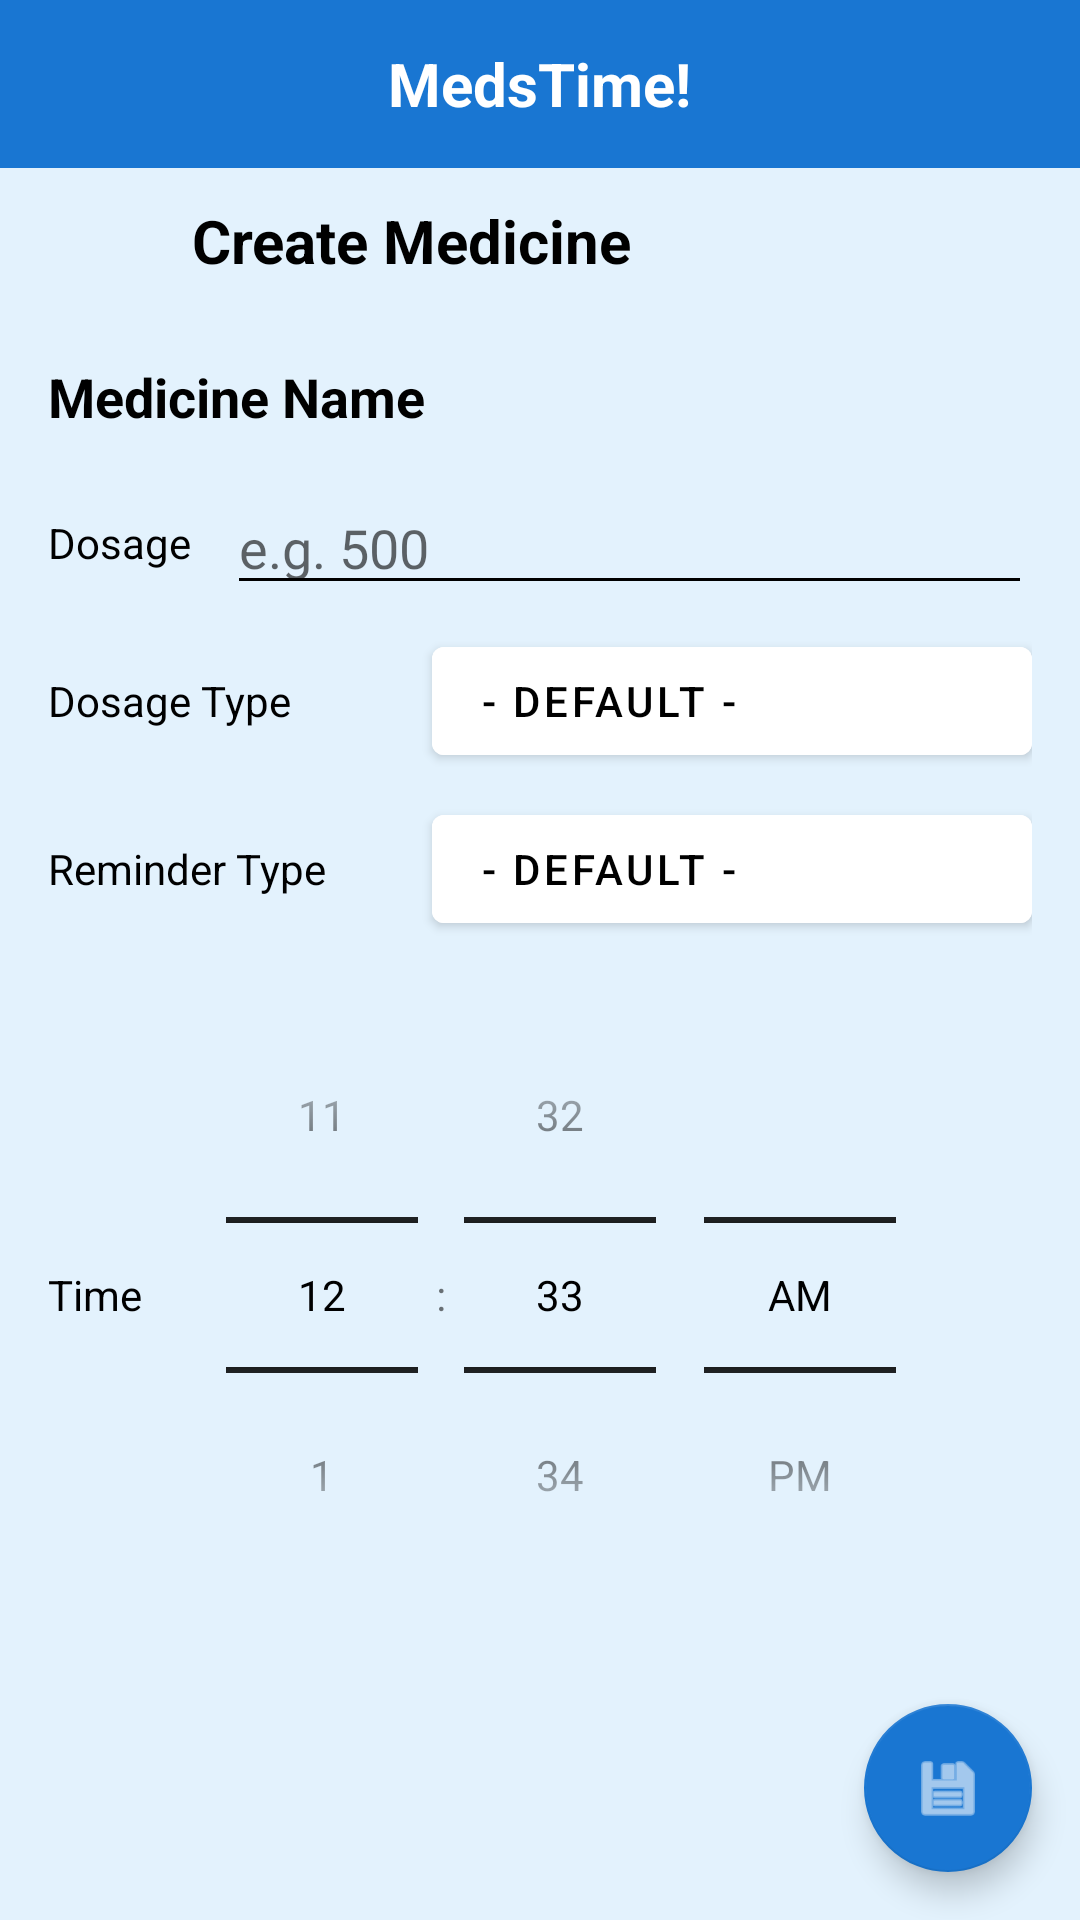

Icon bounding boxes for this 1080px×1920px phone screenshot, format (x1,y1,x2,y2):
Save: (864,1704,1032,1872)
